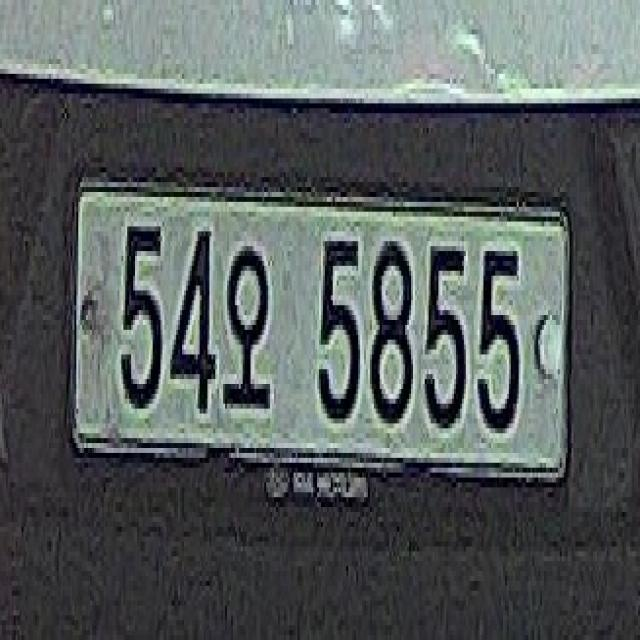4: (168, 214, 218, 414)
5: (474, 222, 528, 439), (418, 222, 469, 430), (313, 218, 364, 424), (116, 215, 166, 412)
8: (366, 222, 416, 428)
license_plate: (62, 160, 579, 506)
o: (220, 215, 276, 414)
